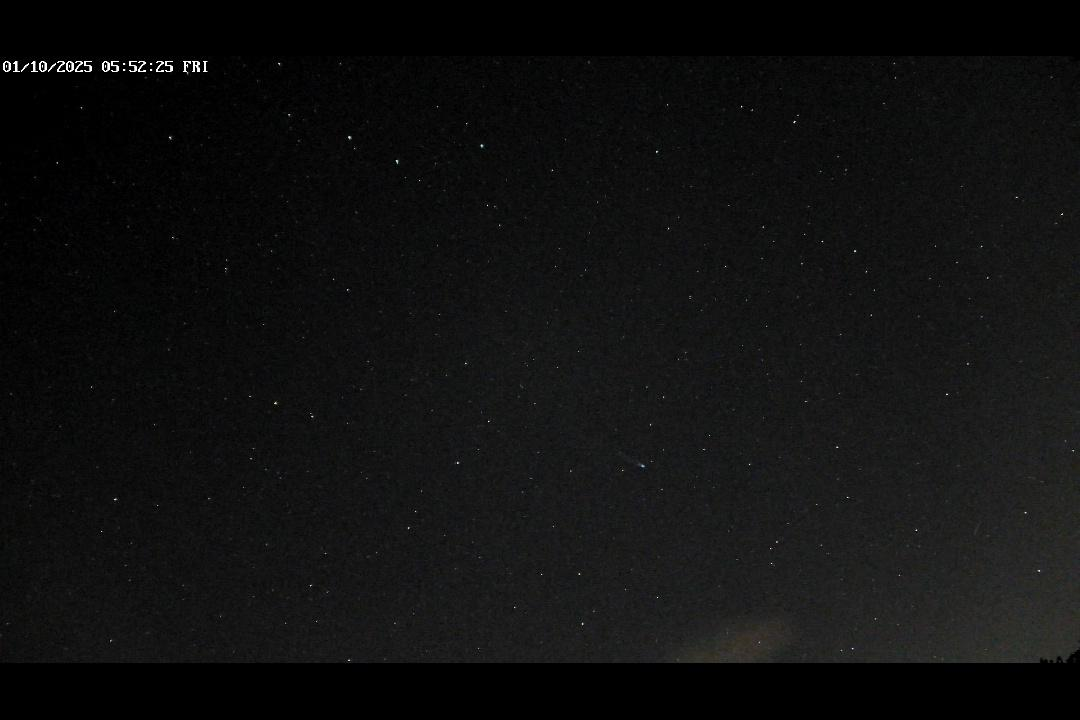Plane: (622, 455, 649, 470)
